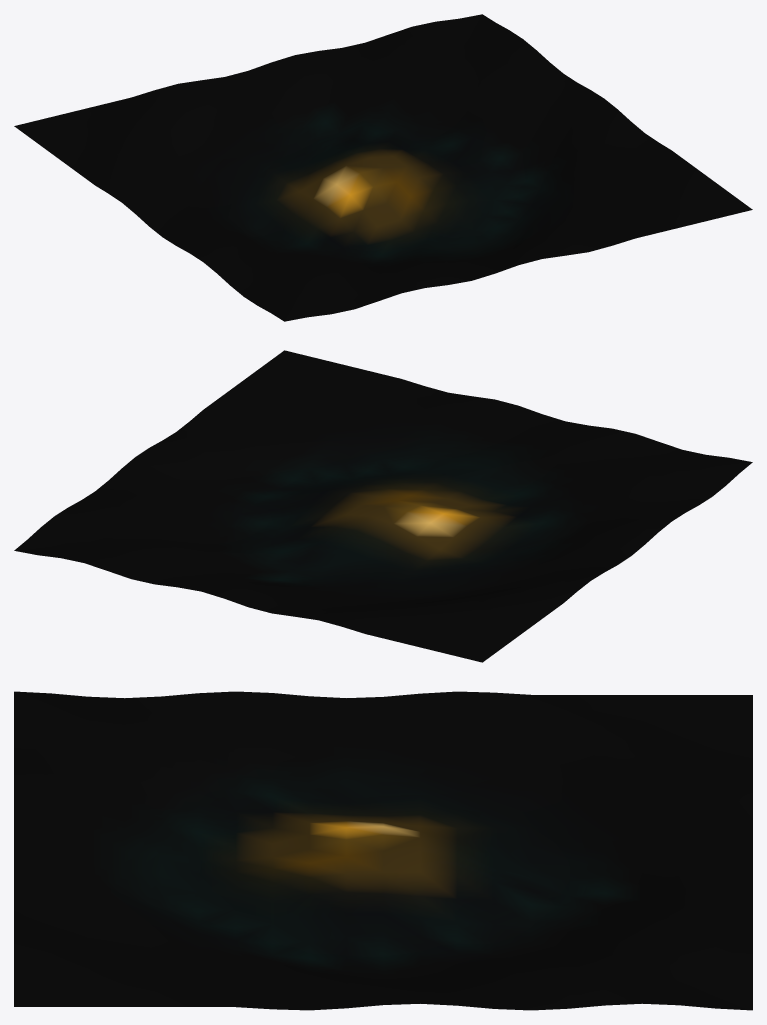
Rendered from SEABED.fbx.
3 renders of one model, top to bottom at view 1: azimuth 30°, elevation 25°; view 2: azimuth 150°, elevation 25°; view 3: azimuth 270°, elevation 25°, orthographic. The views are drawn at different scales.
Visible parts, largest first — view 1: pPlane1; view 2: pPlane1; view 3: pPlane1.
Boxes of the visible parts, box(x1,y1,x2,y2) form: pPlane1: box(14, 14, 752, 321); pPlane1: box(14, 350, 752, 662); pPlane1: box(14, 691, 752, 1010).
Bounding box in the file's own units: 50 × 2.5 × 50.
